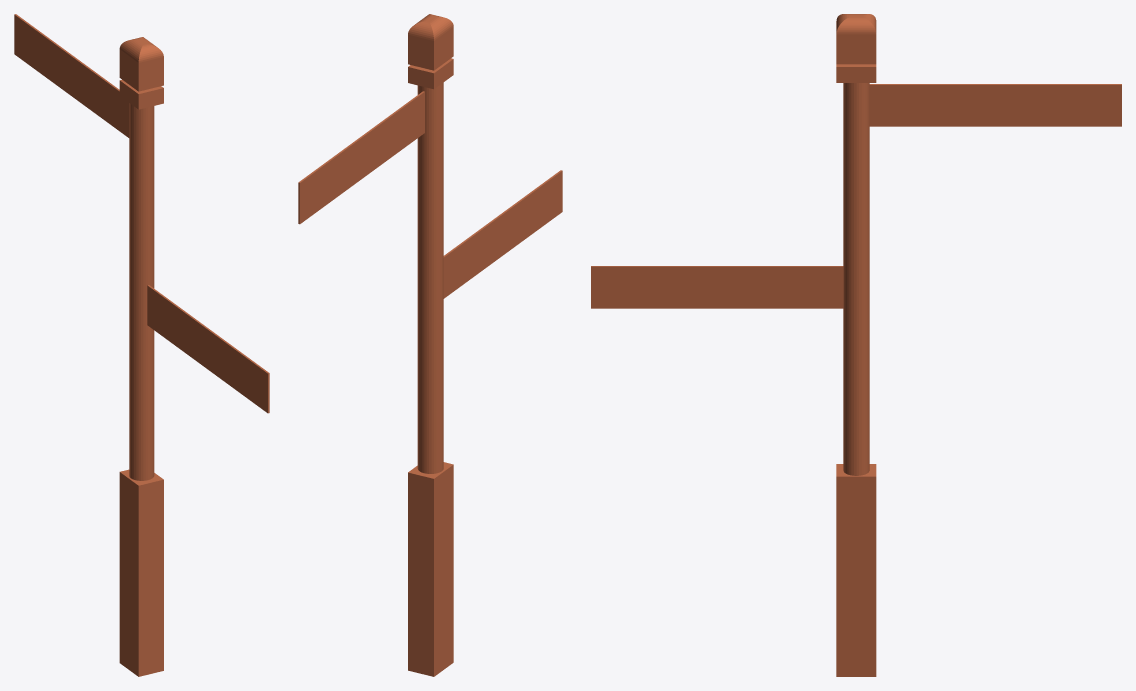
Rendered from fortCanningDirectionSign.fbx.
3 renders of one model, left to right at view 1: azimuth 30°, elevation 25°; view 2: azimuth 150°, elevation 25°; view 3: azimuth 270°, elevation 25°, orthographic. The views are drawn at different scales.
Parts seen in each view (by area): view 1: Cylinder, Cube, Cube.005, Cube.004, Cube.002, Cube.001; view 2: Cylinder, Cube, Cube.004, Cube.005, Cube.002, Cube.001; view 3: Cube.004, Cube.005, Cylinder, Cube, Cube.002, Cube.001.
Boxes of the visible parts, box(x1,y1,x2,y2) form: Cylinder: box(129, 103, 154, 480); Cube: box(119, 469, 163, 676); Cube.005: box(147, 285, 269, 413); Cube.004: box(14, 14, 129, 137); Cube.002: box(119, 37, 163, 91); Cube.001: box(119, 80, 163, 109); Cylinder: box(417, 82, 443, 473); Cube: box(408, 462, 453, 676); Cube.004: box(298, 91, 424, 224); Cube.005: box(443, 170, 562, 298); Cube.002: box(408, 14, 453, 70); Cube.001: box(408, 58, 453, 89); Cube.004: box(869, 84, 1121, 126); Cube.005: box(591, 266, 843, 308); Cylinder: box(843, 83, 869, 475); Cube: box(836, 464, 876, 676); Cube.002: box(836, 14, 876, 64); Cube.001: box(836, 64, 876, 82).
Bounding box in the file's own units: 25.96 × 614 × 451.
